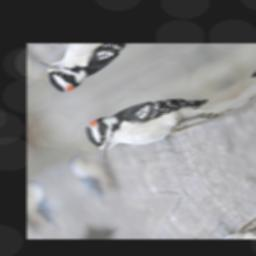Woodpecker: (71, 58, 234, 178)
